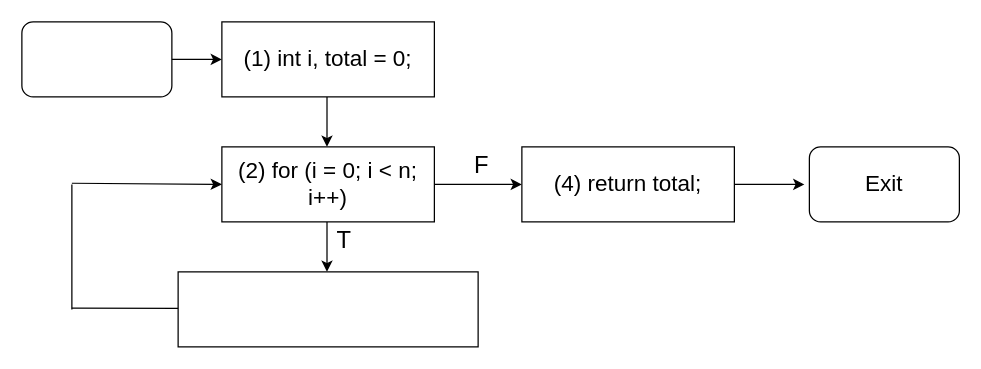
Some shapes in this 981 by 369 pixel diagram are drawn without their labels. Each missing label, with the box of its shape:
(5) total = total + a[i];: (177, 271, 478, 347)
Entry: (21, 21, 172, 97)
